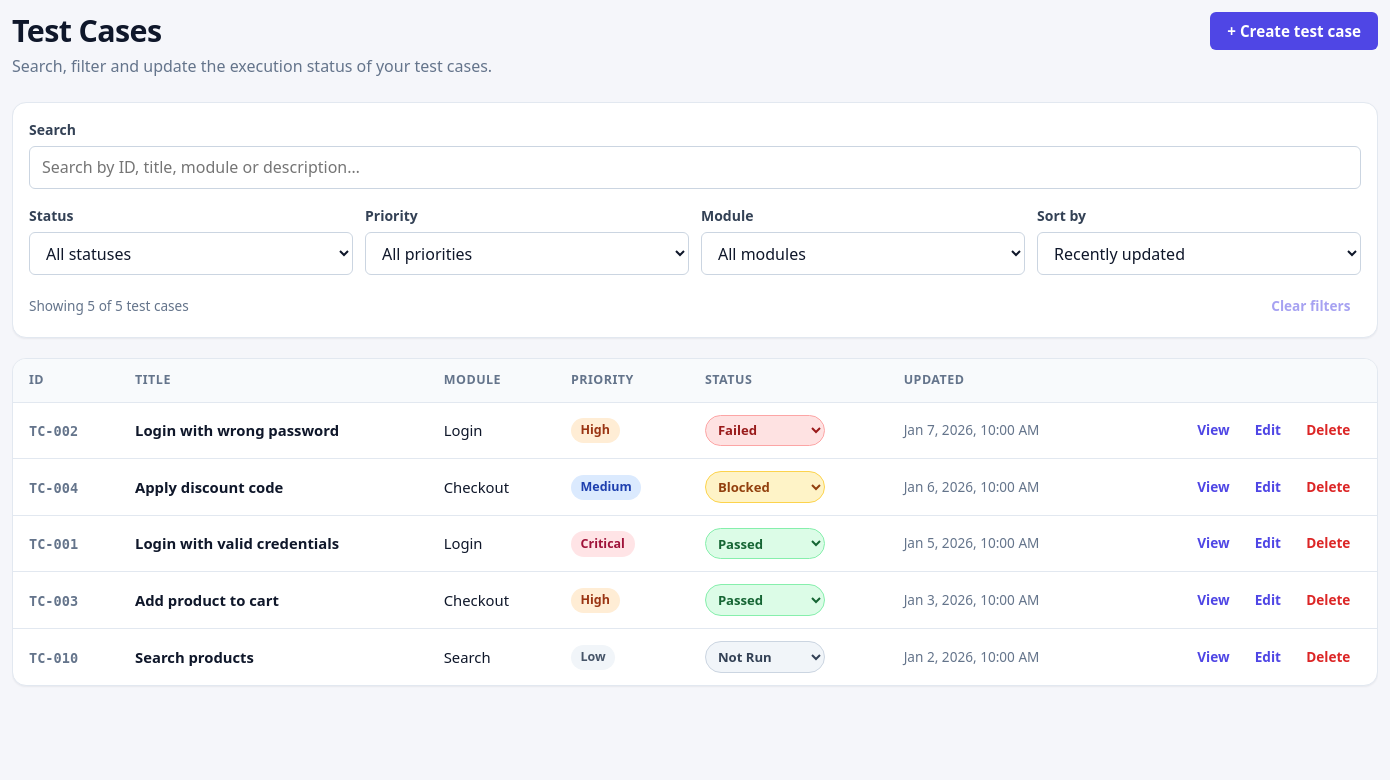
TestCaseList › narrows the list when searching
This screenshot has width=1390, height=780.
Step 1. Type "login" into the search field labelled "Search" → (695, 167), box [29, 146, 1361, 189]
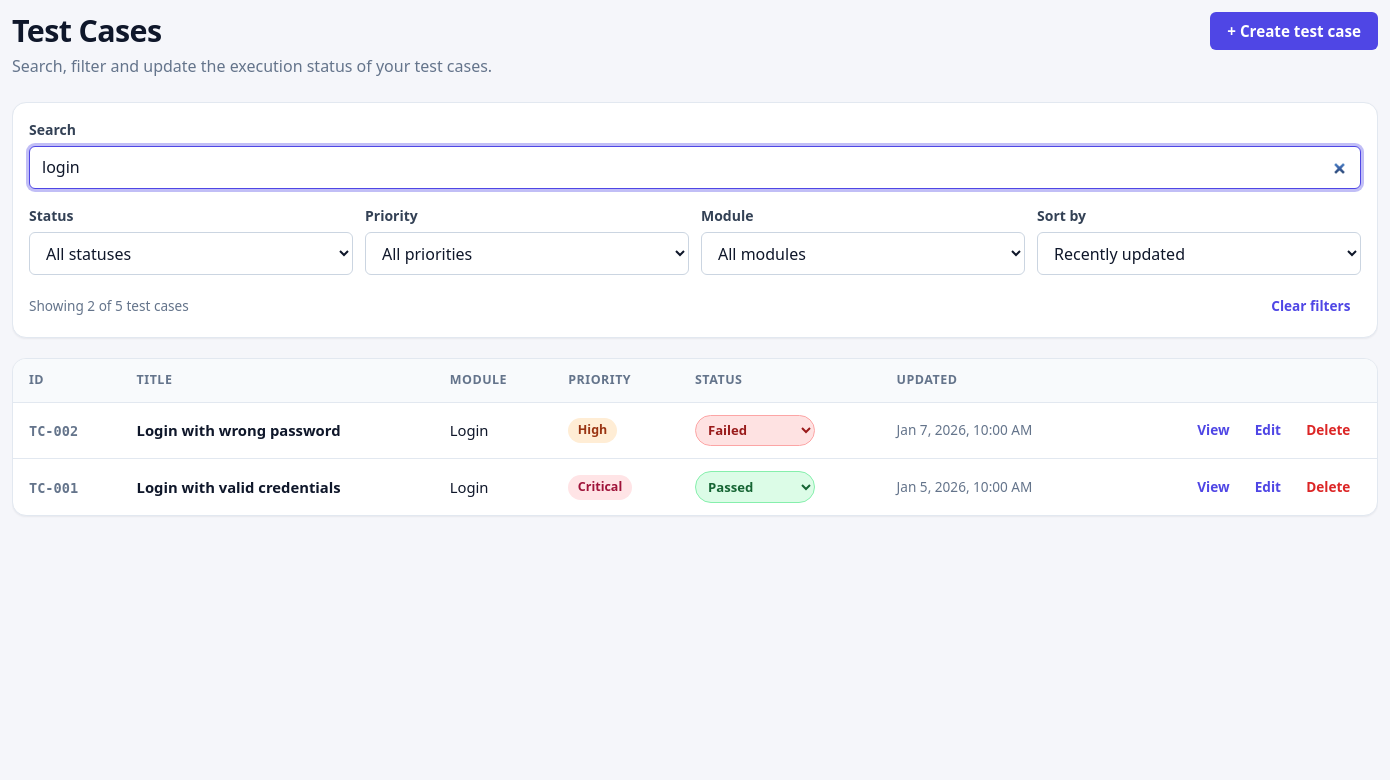
Now the text "Showing 2 of 5 test cases" is shown, box [29, 296, 189, 316]
